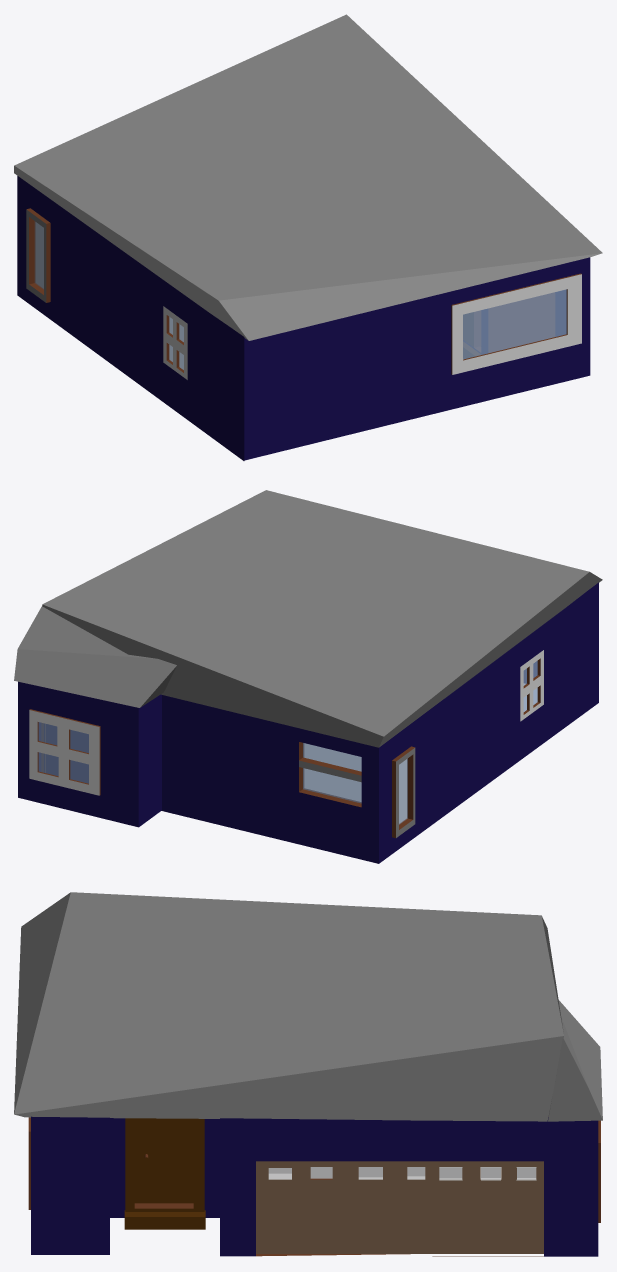
Rendered from house1.fbx.
3 renders of one model, top to bottom at view 1: azimuth 30°, elevation 25°; view 2: azimuth 150°, elevation 25°; view 3: azimuth 270°, elevation 25°, orthographic. The views are drawn at different scales.
Visible parts, largest first — view 1: house1, Cube; view 2: house1, Cube; view 3: house1.
Part boxes in pixels (x1,y1,x2,y2): house1: [14, 14, 602, 460]; Cube: [34, 221, 43, 289]; house1: [14, 490, 602, 863]; Cube: [399, 758, 407, 824]; house1: [14, 892, 602, 1256].
Size of the model in its own units: 2078 by 1073 by 2603.
